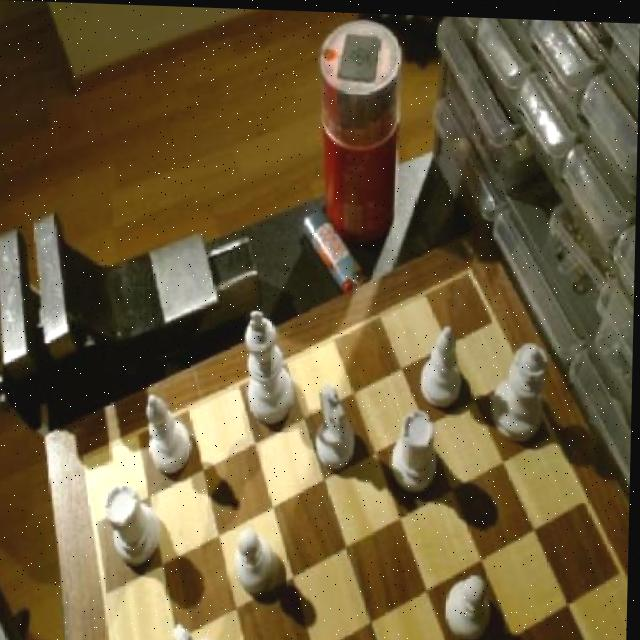black-rook: (142, 389, 200, 482), (415, 319, 464, 408)
white-bishop: (241, 299, 296, 426)
white-king: (309, 380, 361, 473), (172, 621, 220, 640)
white-knight: (444, 565, 493, 640), (235, 524, 277, 594)
white-pawn: (488, 339, 551, 444)
white-queen: (105, 480, 162, 573), (389, 407, 436, 499)
